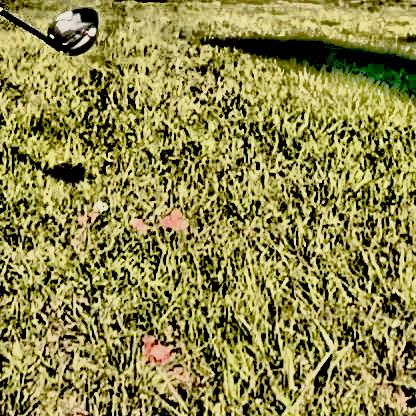golfball: (90, 196, 107, 210)
